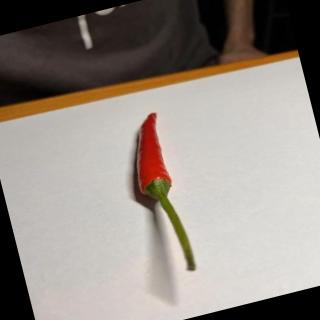Cabai Merah: (122, 111, 199, 280)
